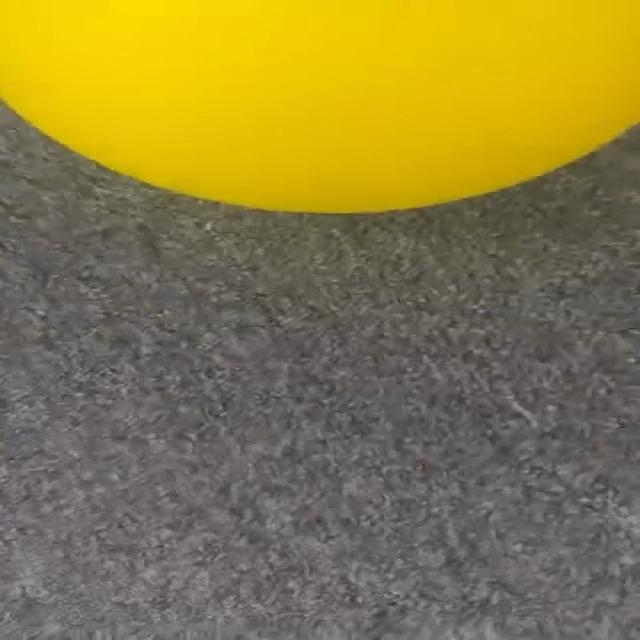Fuels: (0, 0, 636, 211)
